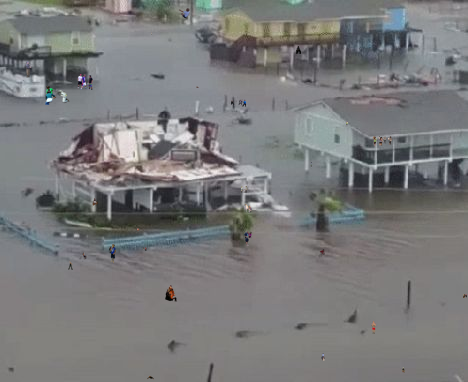Human: (45, 86, 70, 105), (77, 74, 93, 90), (373, 136, 392, 148), (165, 285, 178, 302), (108, 244, 116, 263), (244, 231, 252, 246), (231, 99, 246, 107), (318, 249, 325, 266), (25, 61, 32, 78), (179, 8, 190, 18), (79, 252, 87, 262), (244, 204, 252, 213), (371, 321, 376, 334), (91, 198, 98, 207), (68, 260, 73, 270), (241, 186, 248, 193), (296, 46, 301, 54), (321, 353, 325, 361), (147, 376, 154, 380), (402, 367, 405, 373), (463, 294, 467, 298), (143, 247, 147, 251), (310, 162, 312, 167), (346, 121, 348, 126), (137, 228, 139, 231), (196, 86, 199, 88), (151, 32, 152, 35)
